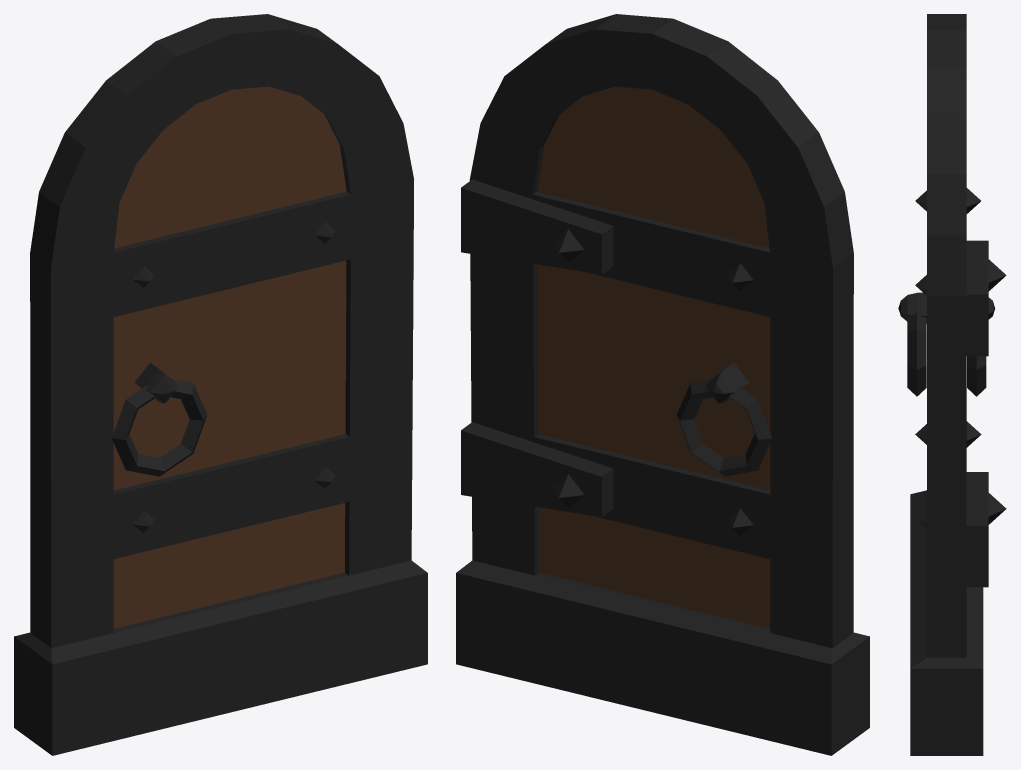
Rendered from Reinforced_SmallDoor.fbx.
3 views of the same model, side by side, from view 1: azimuth 30°, elevation 25°; view 2: azimuth 150°, elevation 25°; view 3: azimuth 270°, elevation 25° (orthographic). The views are drawn at different scales.
Parts seen in each view (by area): view 1: Reinforced_SmallDoor; view 2: Reinforced_SmallDoor; view 3: Reinforced_SmallDoor.
Boxes of the visible parts, x1=… form: Reinforced_SmallDoor: x1=14, y1=14, x2=427, y2=755; Reinforced_SmallDoor: x1=456, y1=14, x2=869, y2=755; Reinforced_SmallDoor: x1=898, y1=14, x2=1006, y2=755.
Size of the model in its own units: 1.99 by 3.39 by 0.5215.
